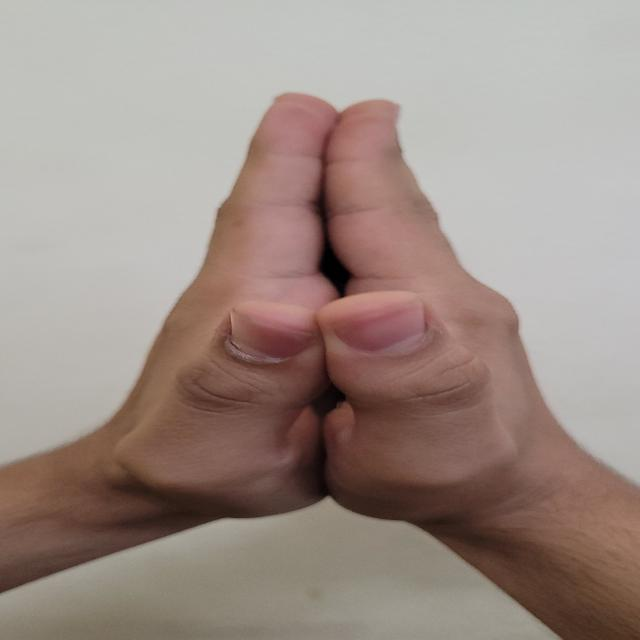Thank You: (76, 79, 594, 586)
